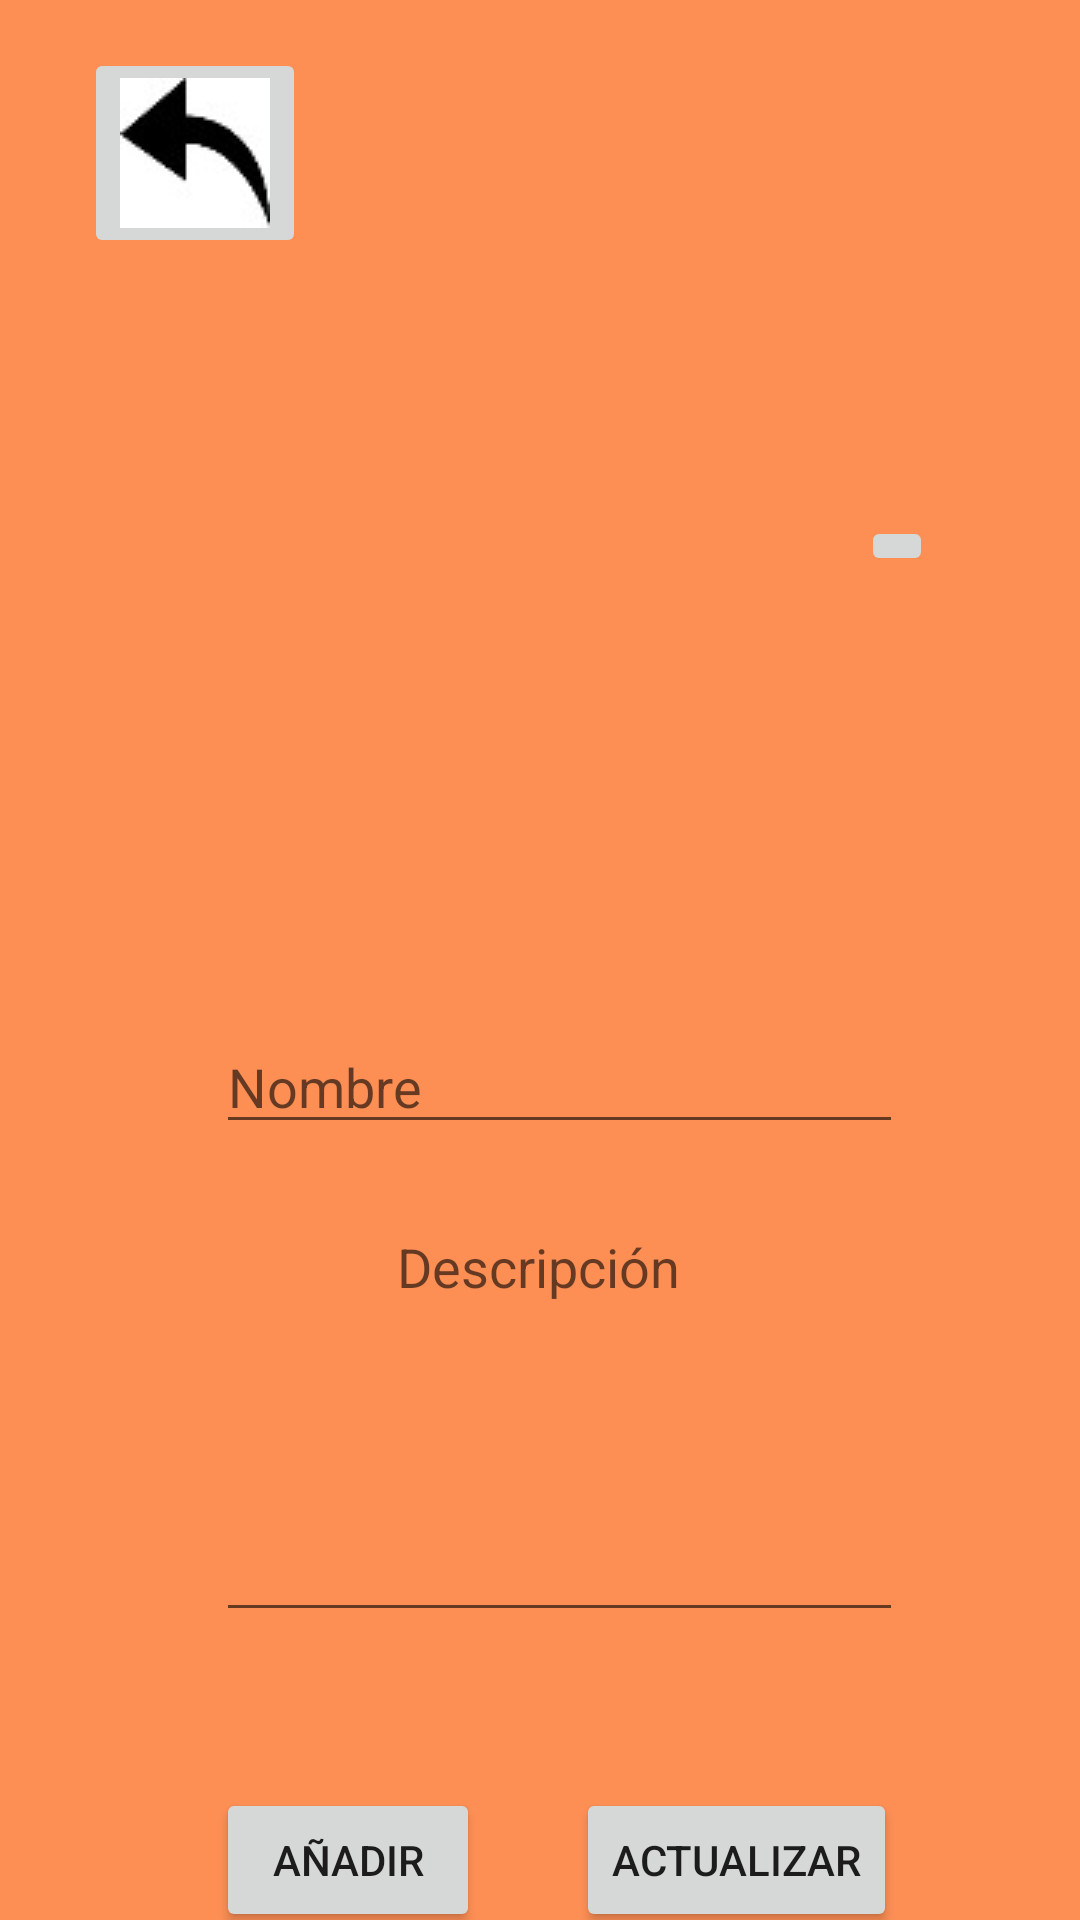

Locate icon controls on the screen. Image size 1080px×1920px, boxes as (x1, y1, x2, y2).
volver: (96, 66, 294, 240)
